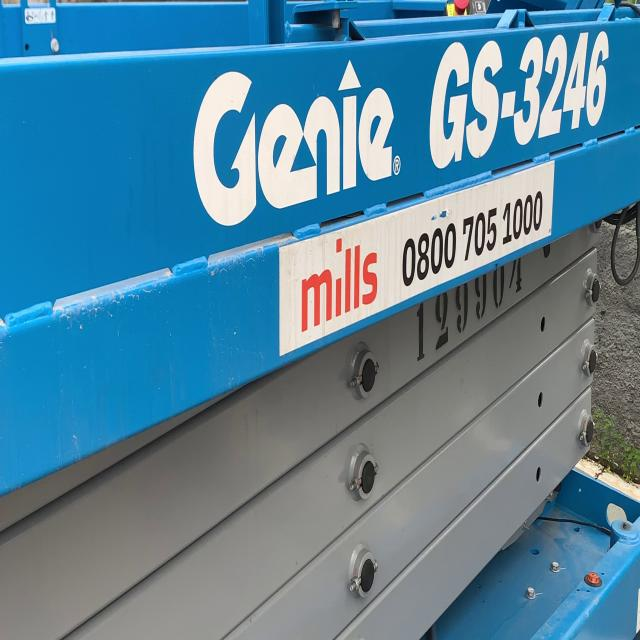Adesivos: (278, 156, 558, 364)
